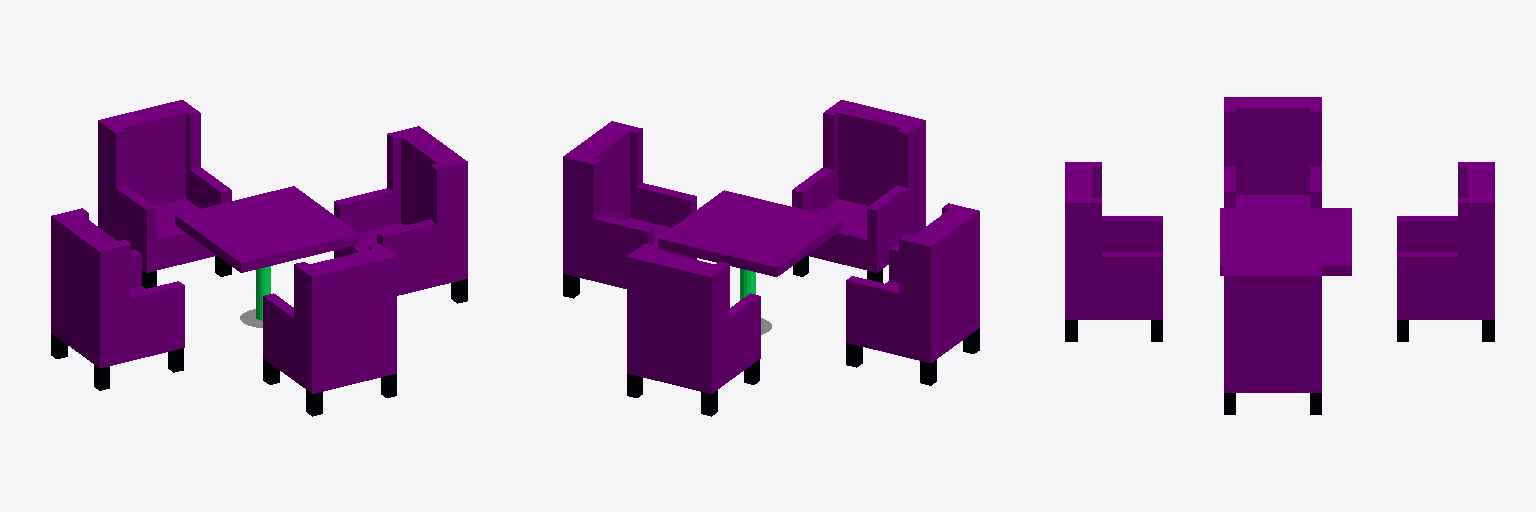
3 views of the same model, side by side, from view 1: azimuth 30°, elevation 25°; view 2: azimuth 150°, elevation 25°; view 3: azimuth 270°, elevation 25° (orthographic).
Visible parts, largest first — view 1: Box012, Box005, Box022, Box017, Box023, Tube001; view 2: Box012, Box005, Box022, Box017, Box023; view 3: Box017, Box005, Box012, Box022, Box023.
Boxes of the visible parts, x1=… form: Box012: x1=263, y1=243, x2=396, y2=393; Box005: x1=98, y1=100, x2=231, y2=272; Box022: x1=51, y1=208, x2=184, y2=367; Box017: x1=334, y1=126, x2=467, y2=295; Box023: x1=175, y1=186, x2=359, y2=272; Tube001: x1=256, y1=266, x2=270, y2=320; Box012: x1=792, y1=100, x2=925, y2=272; Box005: x1=627, y1=243, x2=760, y2=393; Box022: x1=846, y1=203, x2=979, y2=362; Box017: x1=563, y1=121, x2=696, y2=288; Box023: x1=658, y1=190, x2=842, y2=276; Box017: x1=1224, y1=261, x2=1321, y2=392; Box005: x1=1397, y1=162, x2=1494, y2=319; Box012: x1=1065, y1=162, x2=1162, y2=319; Box022: x1=1224, y1=97, x2=1321, y2=207; Box023: x1=1220, y1=208, x2=1351, y2=275.
Size of the model in its own units: 136 by 49.27 by 138.
Materials: 4 (3 with a texture image).